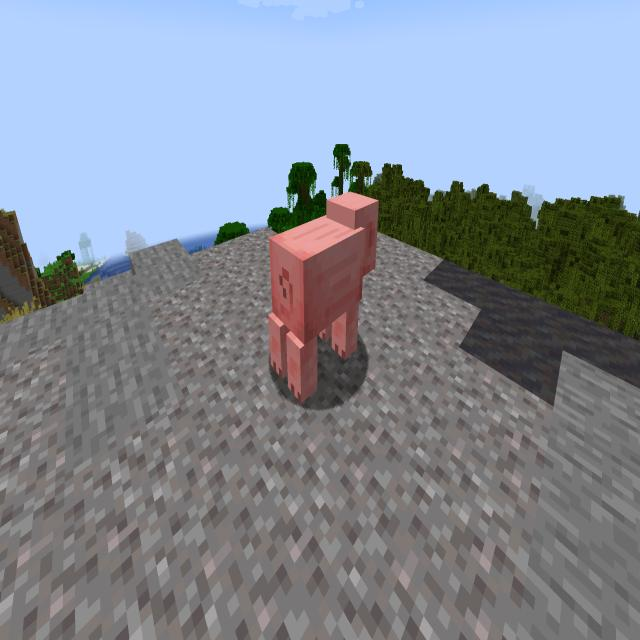pig: (260, 181, 390, 415)
